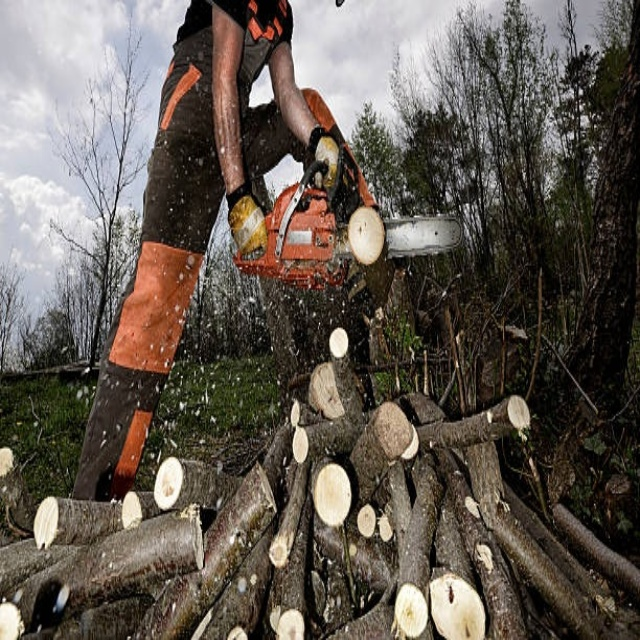Guantes: (307, 125, 351, 205), (227, 181, 269, 261)
